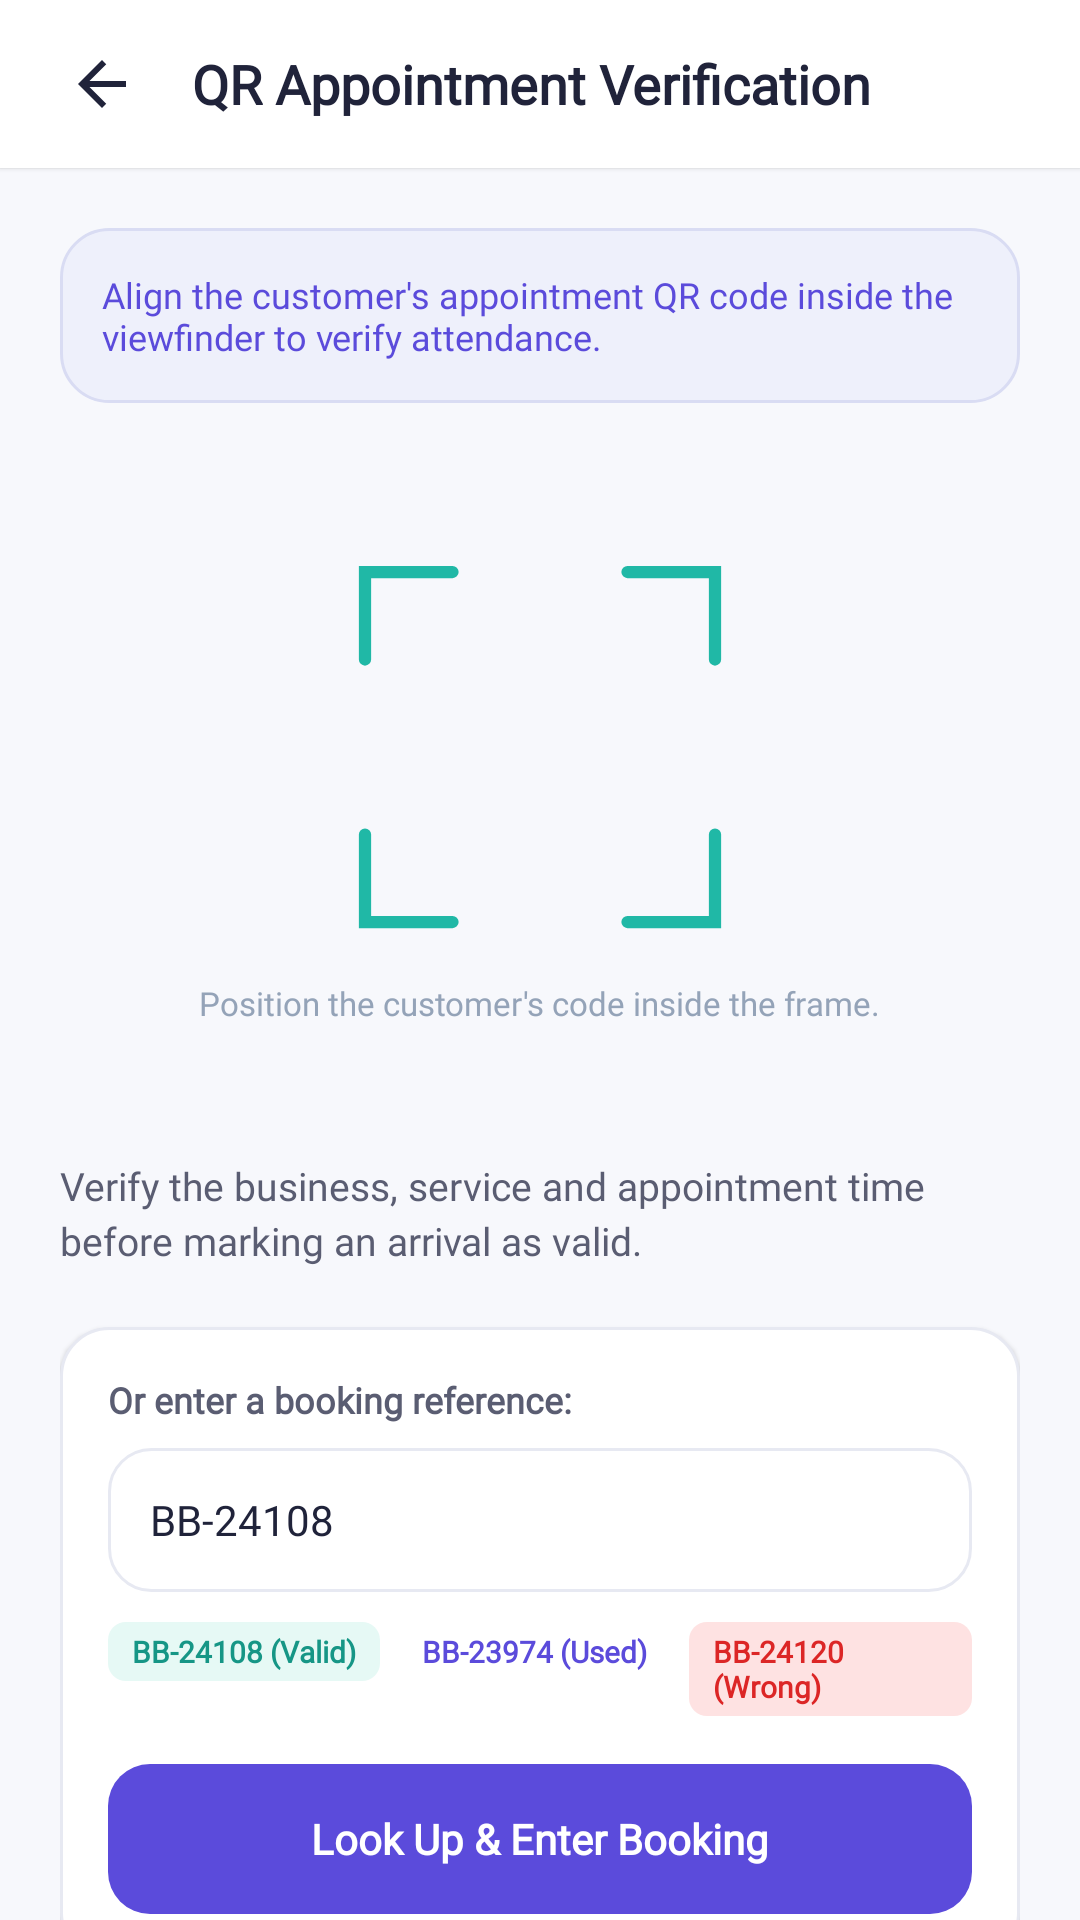

Screen size 1080x1920. Icon name, then its box in pixels as [left=x1, top=y1, right=x2, bottom=y2]:
Back: [left=78, top=60, right=126, bottom=108]
